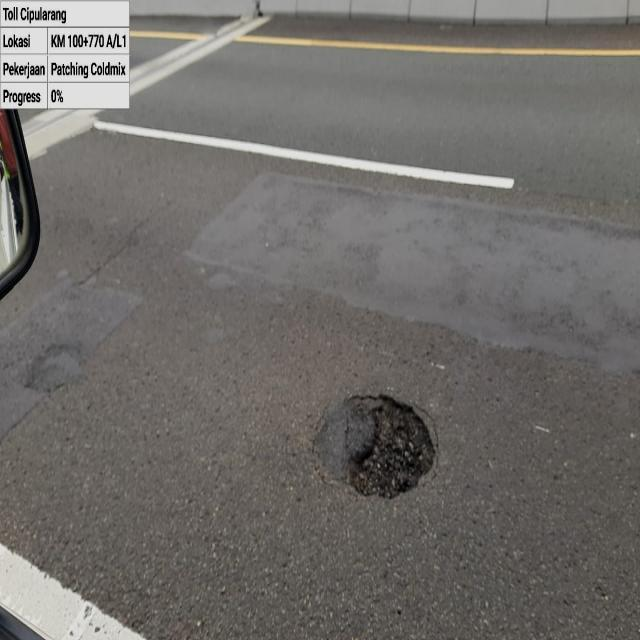Buraco: (303, 390, 445, 504)
